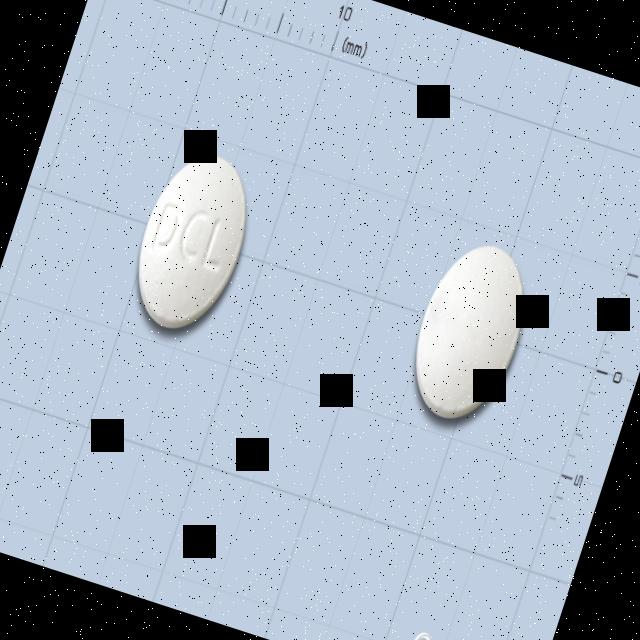Dongkoo Levofloxacin Hydrate Tab: (118, 140, 268, 345)
